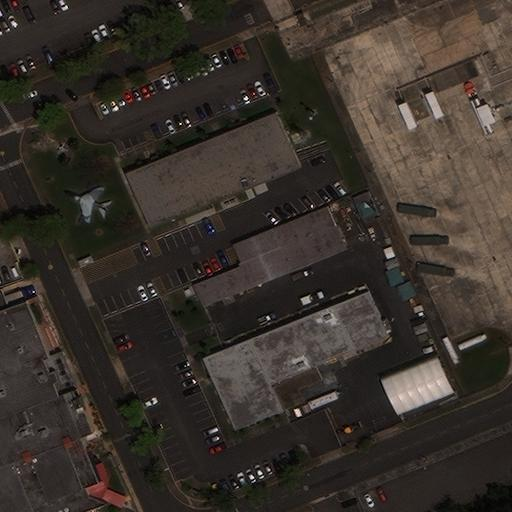Military Fighter: (69, 186, 108, 224)
